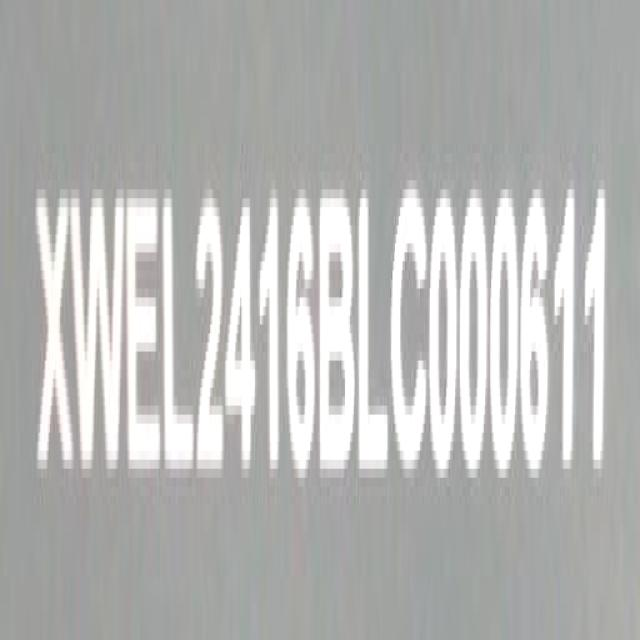0: (490, 186, 522, 487), (462, 181, 491, 483), (431, 183, 460, 483)
1: (258, 182, 284, 488), (587, 181, 611, 489), (556, 178, 579, 488)
2: (195, 187, 228, 490)
4: (224, 188, 256, 491)
6: (288, 185, 319, 488), (522, 182, 552, 486)
B: (319, 182, 356, 488)
C: (392, 186, 432, 486)
E: (127, 190, 163, 491)
L: (162, 187, 196, 488), (358, 183, 391, 486)
W: (72, 181, 127, 488)
X: (34, 184, 72, 490)
